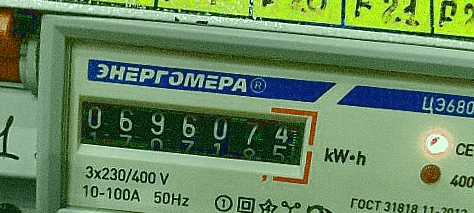0: (83, 103, 105, 130), (210, 114, 230, 141)
4: (272, 120, 290, 143)
5: (270, 142, 288, 164)
6: (178, 110, 199, 139), (115, 105, 136, 132)
7: (241, 118, 260, 146)
9: (147, 108, 166, 135)
screen: (62, 81, 322, 188)
